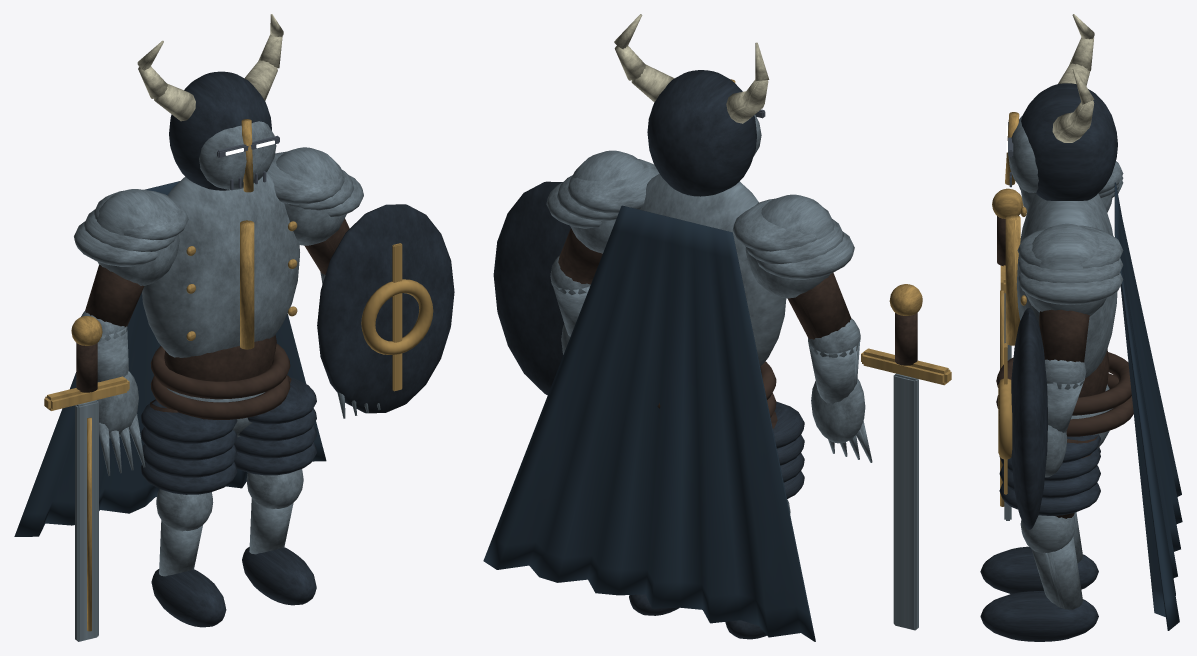
File: enemy_frost_guardian.glb
3 renders of one model, left to right at view 1: azimuth 30°, elevation 25°; view 2: azimuth 150°, elevation 25°; view 3: azimuth 270°, elevation 25°, orthographic. The views are drawn at different scales.
Visible parts, largest first — view 1: Weathered_blue_steel, Forged_black_iron.003, Weathered_blue_steel.002, Woven_midnight_wool, Forged_black_iron, Oiled_leather, Forged_black_iron.001, Antique_brass.002, Weathered_blue_steel.004, Forged_black_iron.002, Weathered_blue_steel.006, Weathered_blue_steel.001 (+8 smaller); view 2: Woven_midnight_wool, Weathered_blue_steel.002, Forged_black_iron.003, Forged_black_iron.002, Weathered_blue_steel.004, Weathered_blue_steel.006, Weathered_blue_steel, Aged_bone, Forged_black_iron, Oiled_leather.002, Antique_brass.002, Oiled_leather.004 (+1 smaller); view 3: Weathered_blue_steel.004, Woven_midnight_wool, Forged_black_iron.001, Forged_black_iron.002, Forged_black_iron.003, Weathered_blue_steel, Oiled_leather, Weathered_blue_steel.003, Antique_brass.002, Forged_black_iron, Aged_bone, Oiled_leather.004 (+6 smaller).
Part boxes in pixels (box(x1,y1,x2,y2)): Weathered_blue_steel: box(142, 173, 299, 437); Forged_black_iron.003: box(317, 204, 454, 413); Weathered_blue_steel.002: box(74, 189, 188, 475); Woven_midnight_wool: box(14, 181, 326, 536); Forged_black_iron: box(140, 400, 237, 627); Oiled_leather: box(150, 335, 290, 419); Forged_black_iron.001: box(234, 377, 316, 605); Antique_brass.002: box(44, 243, 433, 631); Weathered_blue_steel.004: box(266, 147, 380, 418); Forged_black_iron.002: box(169, 71, 271, 190); Weathered_blue_steel.006: box(75, 400, 98, 641); Weathered_blue_steel.001: box(156, 489, 213, 576); Woven_midnight_wool: box(483, 205, 815, 641); Weathered_blue_steel.002: box(733, 194, 872, 462); Forged_black_iron.003: box(493, 181, 570, 395); Forged_black_iron.002: box(647, 70, 756, 196); Weathered_blue_steel.004: box(546, 150, 659, 354); Weathered_blue_steel.006: box(893, 373, 918, 630); Weathered_blue_steel: box(639, 174, 786, 366); Aged_bone: box(614, 14, 769, 123); Forged_black_iron: box(725, 401, 804, 639); Oiled_leather.002: box(788, 272, 851, 339); Antique_brass.002: box(861, 284, 951, 385); Oiled_leather.004: box(558, 228, 602, 284); Weathered_blue_steel.004: box(1017, 223, 1123, 509); Woven_midnight_wool: box(1114, 182, 1182, 630); Forged_black_iron.001: box(980, 434, 1100, 641); Forged_black_iron.002: box(1021, 83, 1117, 200); Forged_black_iron.003: box(1011, 308, 1047, 529); Weathered_blue_steel: box(1016, 193, 1117, 448); Oiled_leather: box(996, 349, 1133, 436); Weathered_blue_steel.003: box(1020, 515, 1082, 609); Antique_brass.002: box(992, 188, 1023, 506); Forged_black_iron: box(980, 447, 1100, 593); Aged_bone: box(1052, 14, 1094, 142); Oiled_leather.004: box(1039, 309, 1089, 362).
Size of the model in its own units: 5.44 by 7.05 by 2.24.
9 materials, 7 textured.
